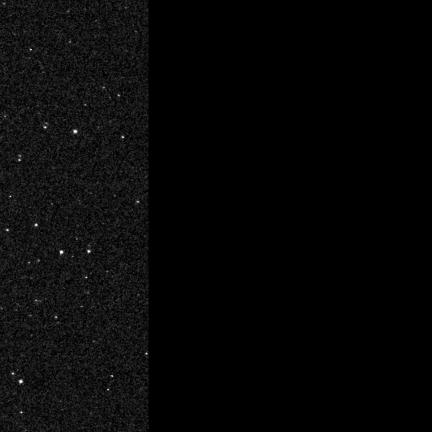blob: (6, 229, 10, 233), (44, 126, 48, 130), (73, 130, 77, 134), (117, 94, 121, 98), (19, 380, 23, 384), (12, 372, 15, 376), (136, 201, 140, 204), (55, 316, 58, 319), (122, 136, 125, 139), (60, 251, 63, 254), (35, 224, 38, 227), (87, 250, 90, 253), (85, 277, 88, 279), (107, 389, 110, 391)
